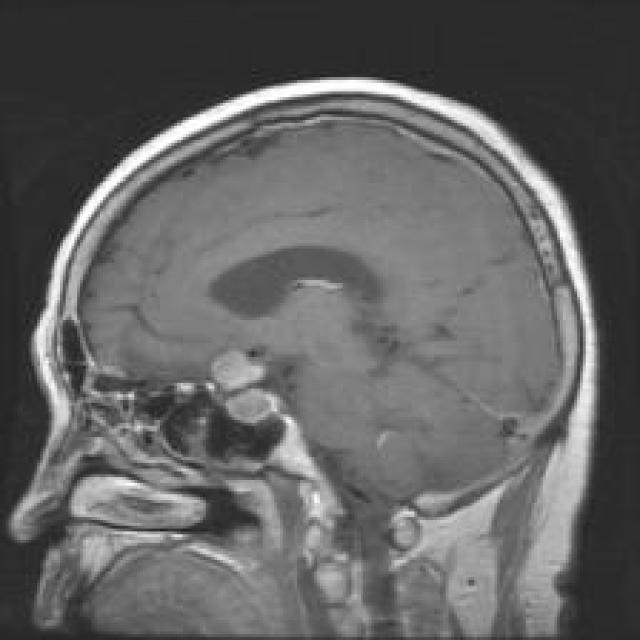pituitary_tumor: (187, 329, 307, 443)
